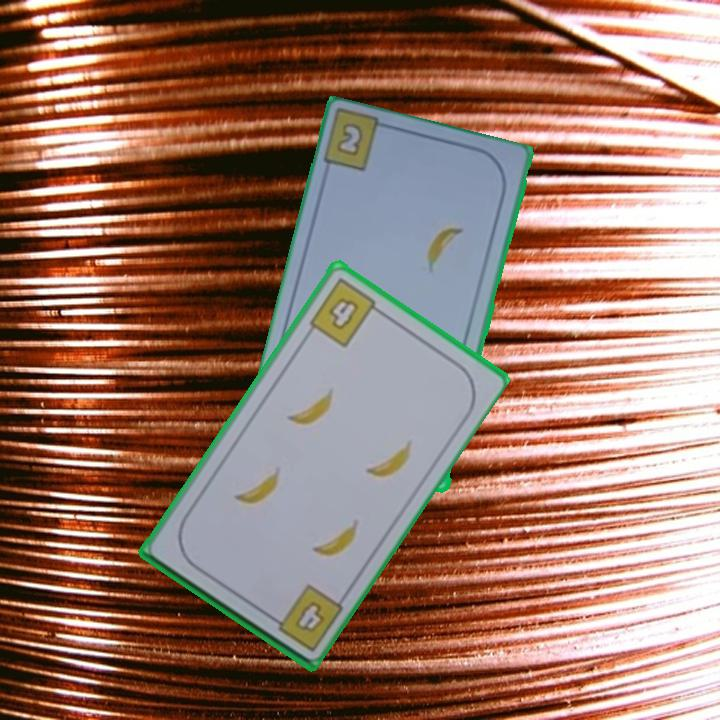2b: (336, 122, 364, 156)
4b: (305, 274, 386, 351), (263, 581, 346, 655)
